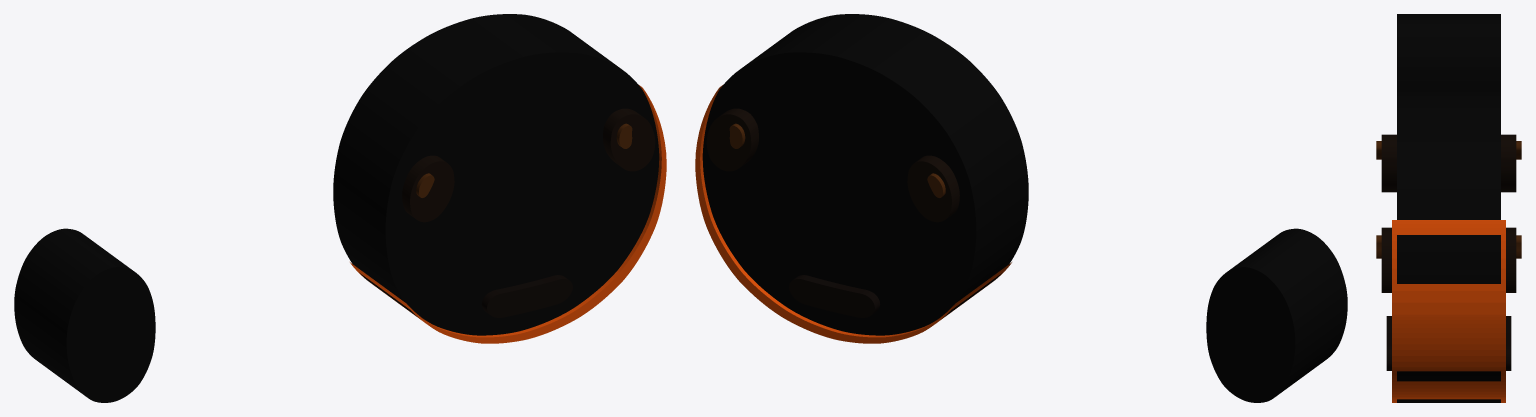
File: U+1FAEA.obj
3 views of the same model, side by side, from view 1: azimuth 30°, elevation 25°; view 2: azimuth 150°, elevation 25°; view 3: azimuth 270°, elevation 25° (orthographic).
Parts seen in each view (by area): view 1: U+1FAEA_layer00_obj00, U+1FAEA_layer00_obj02, U+1FAEA_layer00_obj01, U+1FAEA_layer01_obj00, U+1FAEA_layer02_obj00, U+1FAEA_layer03_obj00, U+1FAEA_layer03_obj01; view 2: U+1FAEA_layer00_obj00, U+1FAEA_layer00_obj02, U+1FAEA_layer00_obj01, U+1FAEA_layer01_obj00, U+1FAEA_layer02_obj00, U+1FAEA_layer03_obj00, U+1FAEA_layer03_obj01; view 3: U+1FAEA_layer00_obj00, U+1FAEA_layer01_obj00, U+1FAEA_layer00_obj02, U+1FAEA_layer03_obj00, U+1FAEA_layer03_obj01, U+1FAEA_layer02_obj00, U+1FAEA_layer04_obj01, U+1FAEA_layer04_obj00.
Part boxes in pixels (bbox=[...]): U+1FAEA_layer00_obj00: bbox=[333, 14, 659, 335]; U+1FAEA_layer00_obj02: bbox=[14, 228, 155, 402]; U+1FAEA_layer00_obj01: bbox=[408, 138, 510, 273]; U+1FAEA_layer01_obj00: bbox=[350, 85, 666, 343]; U+1FAEA_layer02_obj00: bbox=[481, 275, 572, 317]; U+1FAEA_layer03_obj00: bbox=[402, 155, 454, 222]; U+1FAEA_layer03_obj01: bbox=[603, 108, 655, 171]; U+1FAEA_layer00_obj00: bbox=[702, 14, 1028, 335]; U+1FAEA_layer00_obj02: bbox=[1206, 228, 1347, 402]; U+1FAEA_layer00_obj01: bbox=[851, 138, 953, 272]; U+1FAEA_layer01_obj00: bbox=[695, 85, 1011, 343]; U+1FAEA_layer02_obj00: bbox=[789, 275, 880, 317]; U+1FAEA_layer03_obj00: bbox=[907, 155, 959, 222]; U+1FAEA_layer03_obj01: bbox=[706, 108, 758, 171]; U+1FAEA_layer00_obj00: bbox=[1397, 91, 1500, 402]; U+1FAEA_layer01_obj00: bbox=[1392, 220, 1505, 402]; U+1FAEA_layer00_obj02: bbox=[1397, 14, 1500, 91]; U+1FAEA_layer03_obj00: bbox=[1381, 134, 1516, 192]; U+1FAEA_layer03_obj01: bbox=[1381, 227, 1516, 292]; U+1FAEA_layer02_obj00: bbox=[1386, 316, 1511, 370]; U+1FAEA_layer04_obj01: bbox=[1376, 235, 1521, 258]; U+1FAEA_layer04_obj00: bbox=[1376, 141, 1521, 159].
Size of the model in its own units: 0.6585 by 0.2958 by 0.14.
